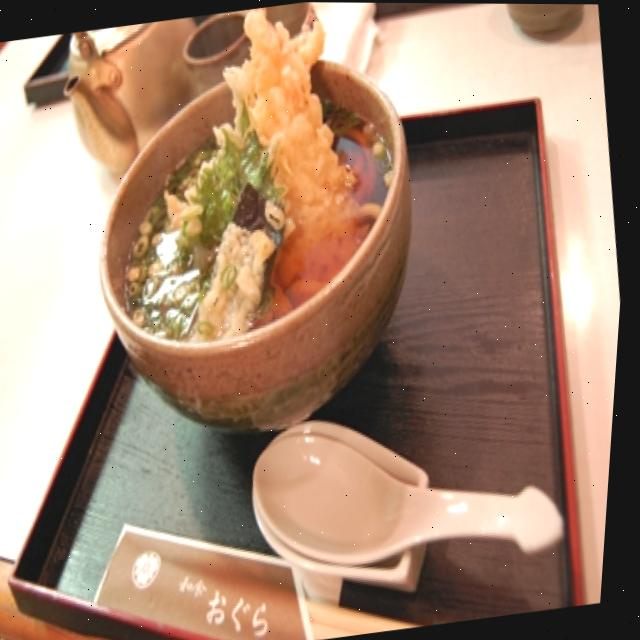面条主食: (74, 1, 436, 361)
